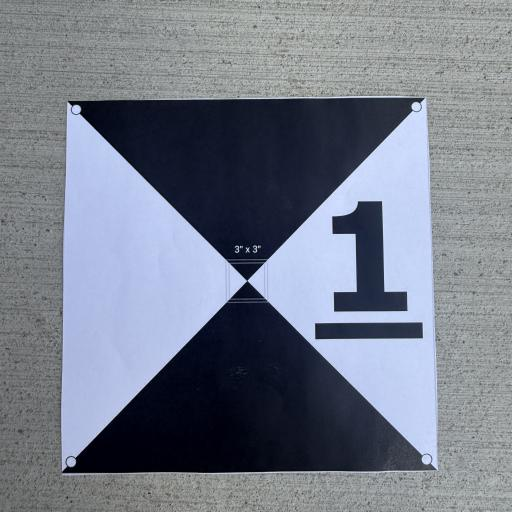target1: (59, 89, 445, 482)
